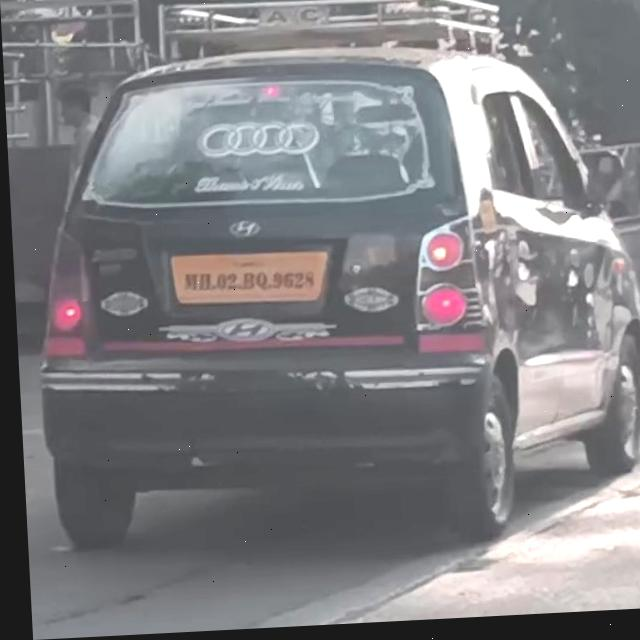plate: (168, 254, 327, 320)
